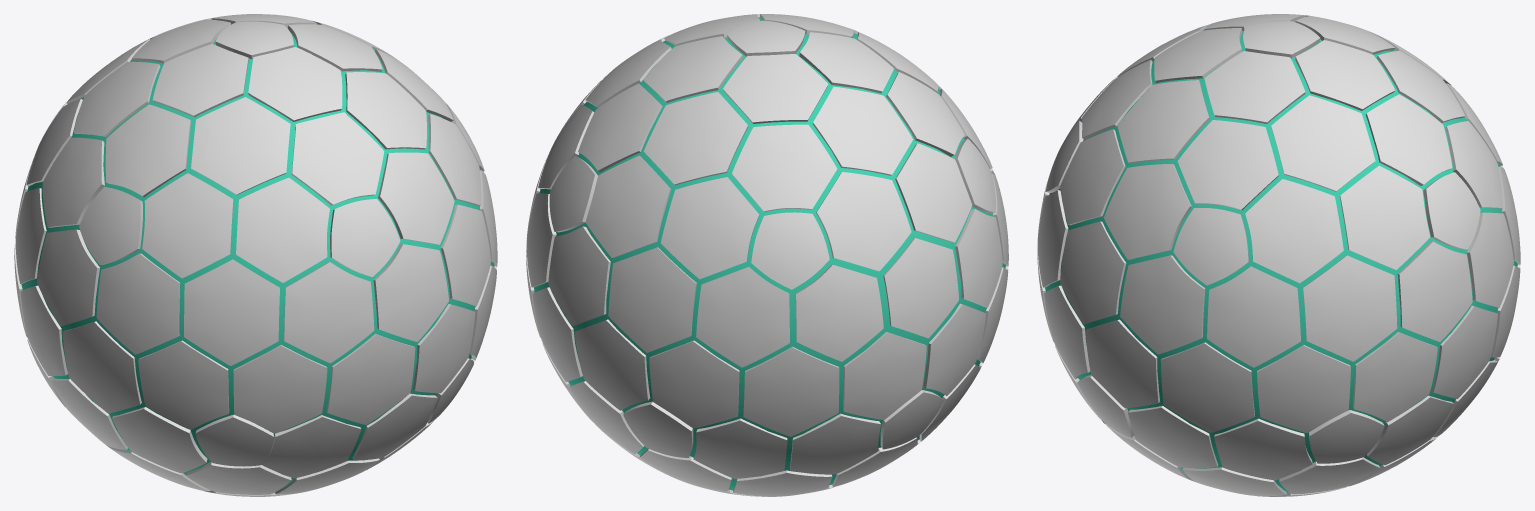
Rendered from carinobianco.glb.
3 renders of one model, left to right at view 1: azimuth 30°, elevation 25°; view 2: azimuth 150°, elevation 25°; view 3: azimuth 270°, elevation 25°, orthographic.
Visible parts, largest first — view 1: Icosphere, GD_mesh.018, GD_mesh.135, GD_mesh.132, GD_mesh.159, GD_mesh.015, GD_mesh.016, GD_mesh.014, GD_mesh.138, GD_mesh.147, GD_mesh.140, GD_mesh.146 (+34 smaller); view 2: Icosphere, GD_mesh.023, GD_mesh.022, GD_mesh.180, GD_mesh.129, GD_mesh.143, GD_mesh.155, GD_mesh.145, GD_mesh.141, GD_mesh.131, GD_mesh.001, GD_mesh.162 (+35 smaller); view 3: Icosphere, GD_mesh.174, GD_mesh.158, GD_mesh.006, GD_mesh.124, GD_mesh.126, GD_mesh.125, GD_mesh.175, GD_mesh.181, GD_mesh.160, GD_mesh.157, GD_mesh.161 (+35 smaller).
Part boxes in pixels (box(x1,y1,x2,y2)): Icosphere: box(21, 27, 494, 487); GD_mesh.018: box(184, 259, 279, 366); GD_mesh.135: box(236, 177, 329, 282); GD_mesh.132: box(191, 97, 290, 195); GD_mesh.159: box(142, 173, 233, 278); GD_mesh.015: box(284, 262, 374, 363); GD_mesh.016: box(291, 112, 384, 205); GD_mesh.014: box(96, 253, 180, 354); GD_mesh.138: box(233, 345, 327, 433); GD_mesh.147: box(138, 340, 229, 429); GD_mesh.140: box(105, 104, 191, 196); GD_mesh.146: box(326, 333, 415, 424); Icosphere: box(534, 17, 1005, 490); GD_mesh.023: box(661, 177, 759, 279); GD_mesh.022: box(696, 267, 789, 367); GD_mesh.180: box(608, 247, 696, 352); GD_mesh.129: box(732, 124, 837, 211); GD_mesh.143: box(816, 172, 911, 271); GD_mesh.155: box(643, 92, 748, 185); GD_mesh.145: box(743, 346, 839, 436); GD_mesh.141: box(795, 264, 883, 361); GD_mesh.131: box(812, 86, 913, 175); GD_mesh.001: box(585, 155, 671, 257); GD_mesh.162: box(649, 340, 739, 428); Icosphere: box(1045, 21, 1517, 492); GD_mesh.174: box(1303, 255, 1397, 361); GD_mesh.158: box(1245, 179, 1343, 283); GD_mesh.006: box(1207, 266, 1300, 367); GD_mesh.124: box(1271, 95, 1375, 191); GD_mesh.126: box(1177, 120, 1278, 210); GD_mesh.125: box(1339, 165, 1429, 269); GD_mesh.175: box(1120, 255, 1205, 354); GD_mesh.181: box(1160, 342, 1254, 432); GD_mesh.160: box(1257, 345, 1350, 433); GD_mesh.157: box(1104, 164, 1191, 259); GD_mesh.161: box(1397, 241, 1472, 341).
Size of the model in its own units: 2.6 by 2.63 by 2.6.
